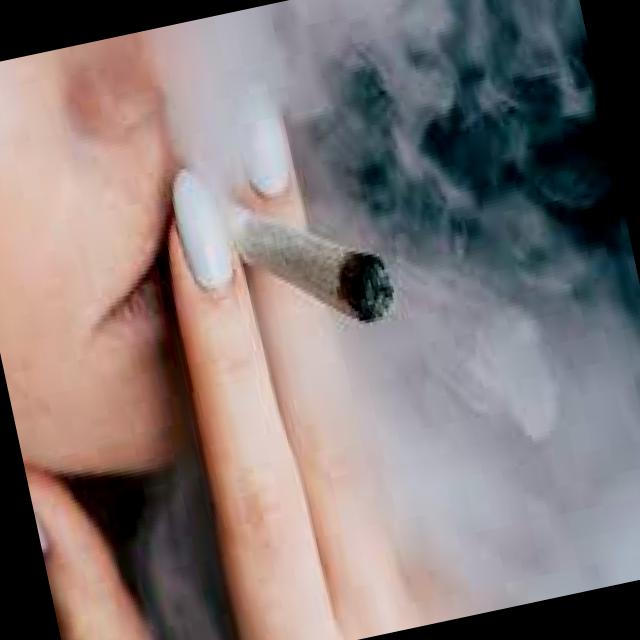cigarette: (221, 175, 400, 344)
